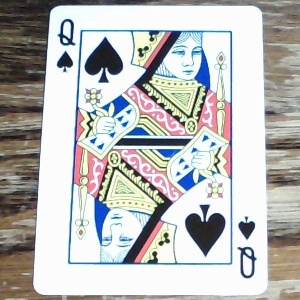card: (31, 4, 268, 296)
